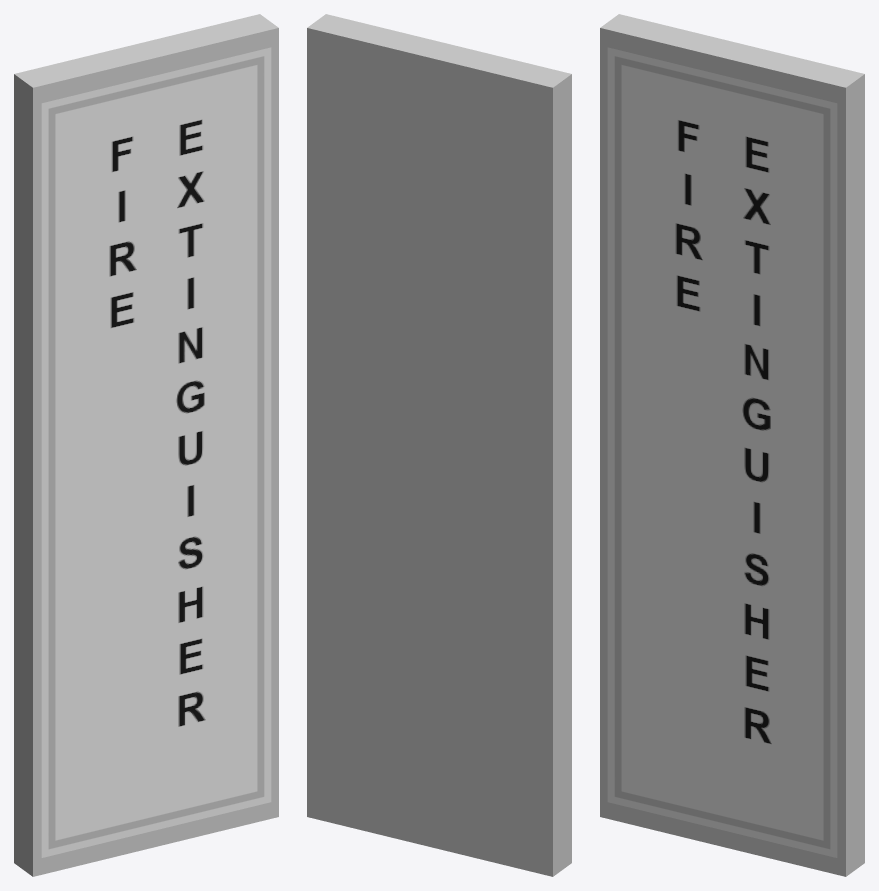
Rendered from fire_extinguisher_sign.glb.
3 views of the same model, side by side, from view 1: azimuth 30°, elevation 25°; view 2: azimuth 150°, elevation 25°; view 3: azimuth 330°, elevation 25° (orthographic).
Visible parts, largest first — view 1: label, cabinet; view 2: cabinet; view 3: label, cabinet.
Boxes of the visible parts, bbox=[...] form: label: bbox=[41, 47, 271, 857]; cabinet: bbox=[14, 14, 278, 876]; cabinet: bbox=[307, 14, 571, 876]; label: bbox=[607, 47, 837, 857]; cabinet: bbox=[600, 14, 864, 876].
Size of the model in its own units: 0.3 by 0.92 by 0.041.
2 materials, 1 textured.
